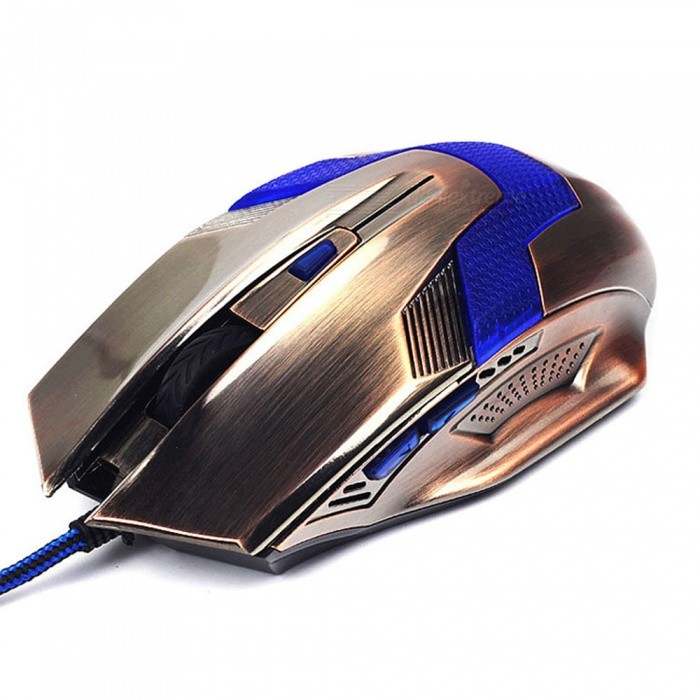Mouse: (23, 131, 665, 584)
